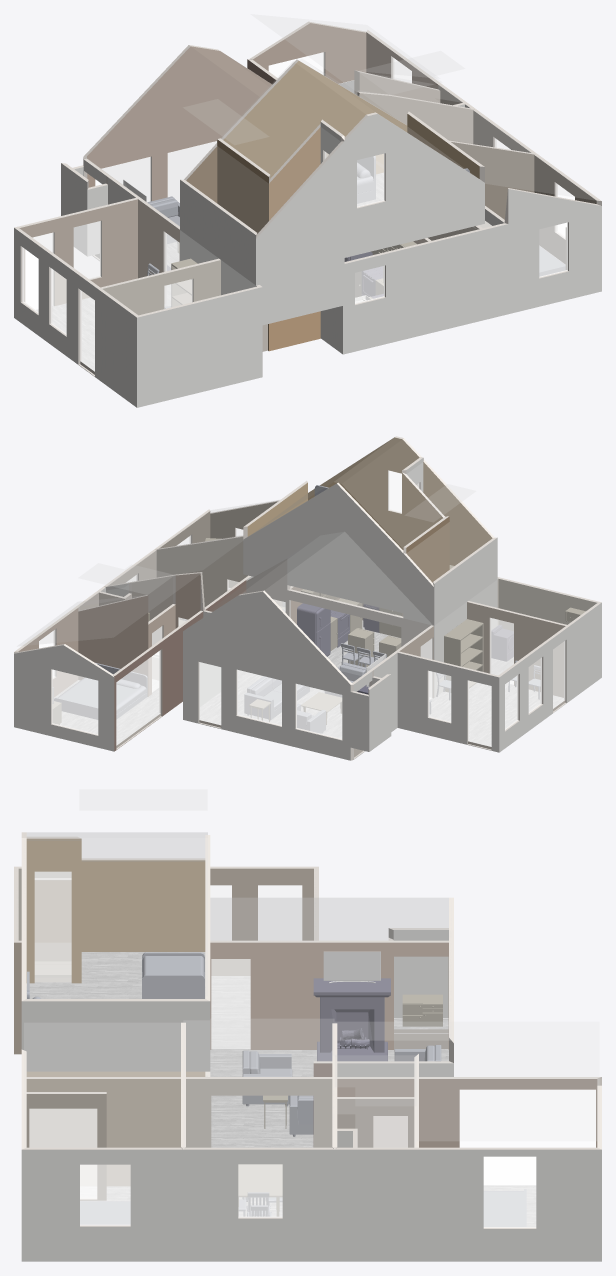
Rendered from roomplan.glb.
The picture shows the model from 3 angles, top to bottom: view 1: azimuth 30°, elevation 25°; view 2: azimuth 150°, elevation 25°; view 3: azimuth 270°, elevation 25°; orthographic projection. The views are drawn at different scales.
Visible parts, largest first — view 1: ceiling_Living Room_3, wall_148, wall_32, wall_67, wall_163, ceiling_Other_1, wall_137, wall_165, wall_133, wall_142, wall_5, wall_131 (+67 smaller); view 2: wall_111, ceiling_Living Room_3, wall_166, ceiling_Other_1, wall_73, wall_57, wall_17, wall_142, wall_147, wall_4, wall_93, ceiling_Bedroom_7 (+79 smaller); view 3: ceiling_Bedroom_6, ceiling_Living Room_0, ceiling_Bedroom_3, wall_127, ceiling_Bedroom_4, wall_119, wall_117, wall_157, wall_150, ceiling_Living Room_3, wall_44, ceiling_Bedroom_2 (+69 smaller).
Boxes of the visible parts, x1,y1,x2,y2 form: ceiling_Living Room_3: (86,47,259,226); wall_148: (344,114,484,257); wall_32: (87,46,271,200); wall_67: (137,287,262,407); wall_163: (256,141,344,325); ceiling_Other_1: (18,198,217,287); wall_137: (508,189,601,314); wall_165: (223,61,407,178); wall_133: (343,242,431,354); wall_142: (180,180,255,295); wall_5: (19,199,137,305); wall_131: (432,230,483,332); wall_111: (183,591,350,760); ceiling_Living Room_3: (265,532,431,682); wall_166: (243,483,403,613); ceiling_Other_1: (400,602,564,674); wall_73: (14,645,114,751); wall_57: (397,653,499,752); wall_17: (78,595,148,679); wall_142: (434,537,497,697); wall_147: (308,437,419,548); wall_4: (156,537,247,619); wall_93: (499,626,569,752); ceiling_Bedroom_7: (362,474,444,547); ceiling_Bedroom_6: (24,838,207,998); ceiling_Living Room_0: (211,931,450,1039); ceiling_Bedroom_3: (24,1023,182,1147); wall_127: (416,1149,601,1261); ceiling_Bedroom_4: (417,1056,598,1140); wall_119: (21,1149,183,1261); wall_117: (183,1149,334,1261); wall_157: (21,1001,210,1071); wall_150: (81,860,205,951); ceiling_Living Room_3: (211,898,448,939); wall_44: (26,1079,180,1185); ceiling_Bedroom_2: (335,1022,598,1054).
Size of the model in its own units: 13.86 by 6.59 by 12.17.
Materials: 198 (15 with a texture image).
